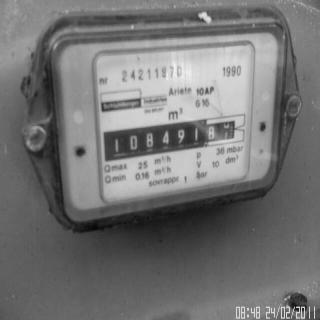1: (130, 134, 139, 153)
2: (113, 137, 121, 156), (192, 126, 200, 142)
5: (161, 128, 171, 148)
9: (146, 132, 154, 149), (207, 125, 215, 141)
object: (176, 127, 186, 146)
